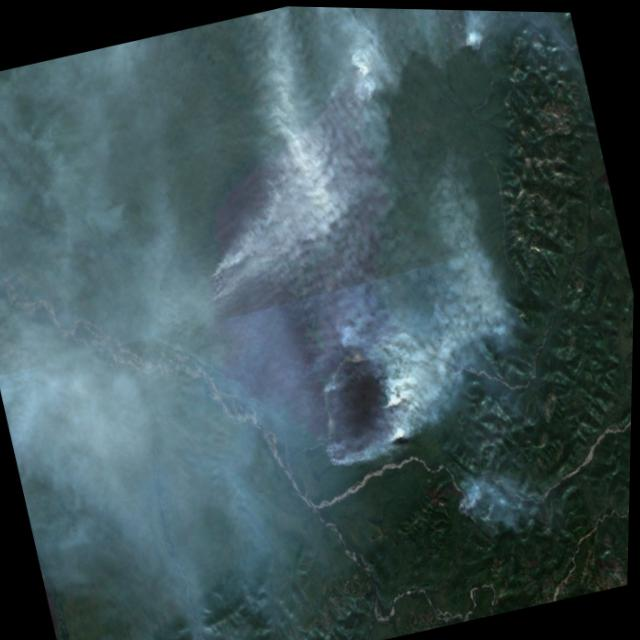fire: (307, 365, 438, 484), (184, 240, 274, 361), (308, 35, 395, 137), (444, 9, 486, 63)
